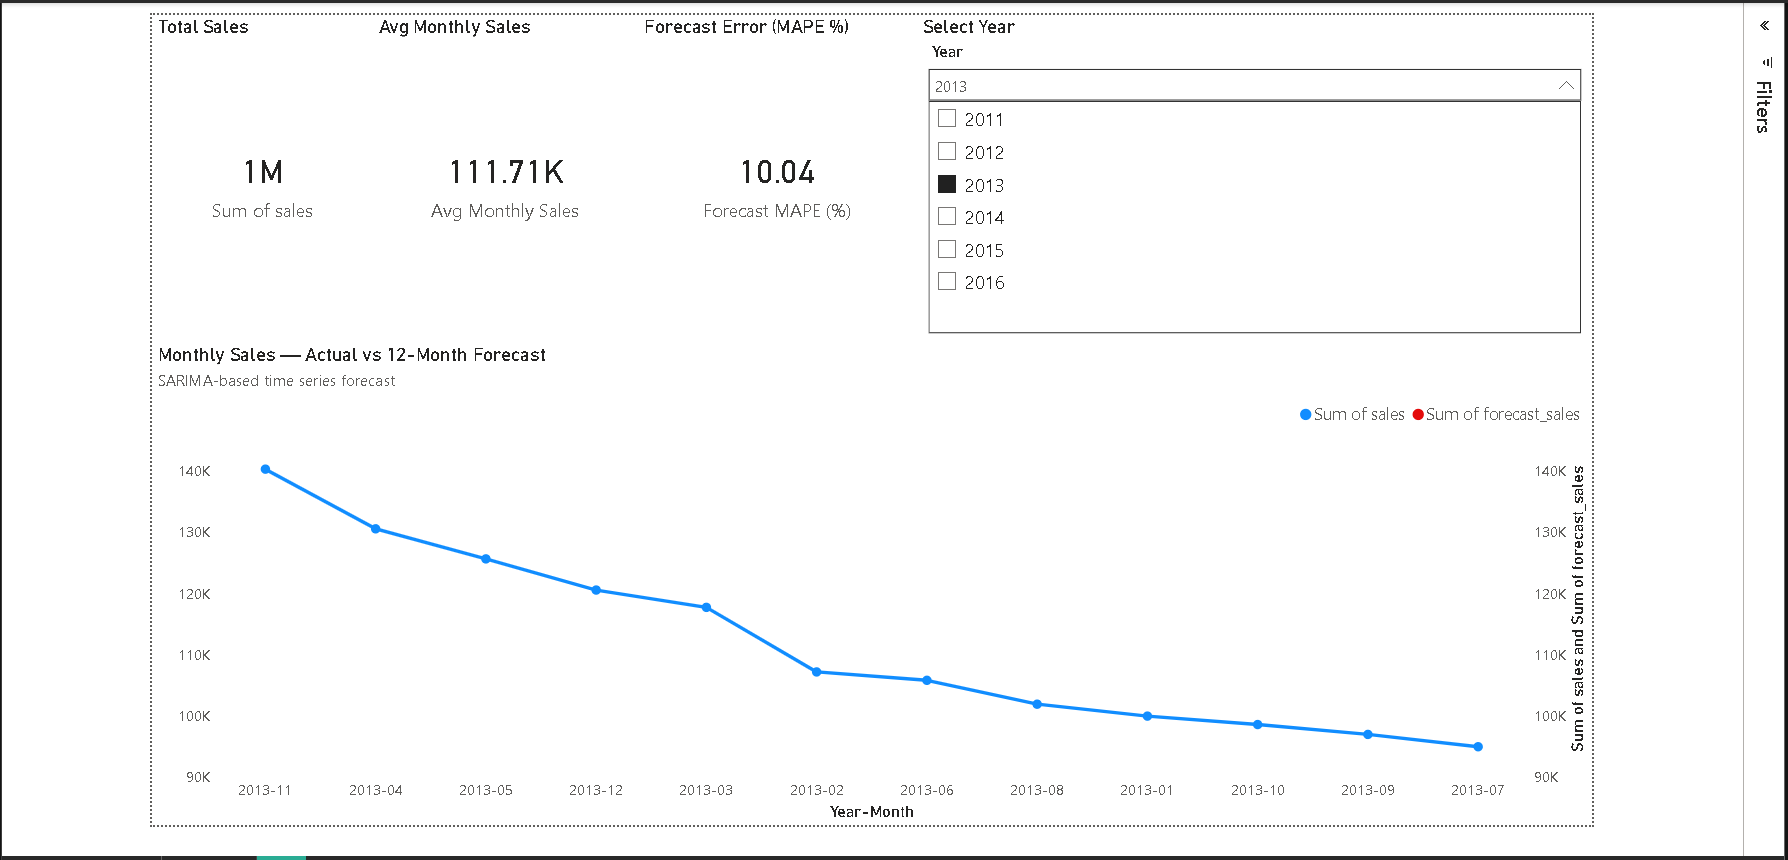

The page's visual inventory and layout, read from the dashboard file:
{"tool":"powerbi","page":{"name":"Page 1","canvas":[1280,720],"ordinal":0},"visuals":[{"type":"lineChart","title":"Monthly Sales — Actual vs 12-Month Forecast","fields":{"Category":["Calendar.Year-Month"],"Y":["Sum(superstore_sales_cleaned.sales)"],"Y2":["Sum(sales_forecast_12_months.forecast_sales)"]},"box":[0,291.4,1280,430],"z":0},{"type":"card","title":"Total Sales","fields":{"Values":["Sum(superstore_sales_cleaned.sales)"]},"box":[0,0,196.2,277.5],"z":1000},{"type":"card","title":"Avg Monthly Sales","fields":{"Values":["superstore_sales_cleaned.Avg Monthly Sales"]},"box":[196.2,0,235,278.8],"z":2000},{"type":"card","title":"Forecast Error (MAPE %)","fields":{"Values":["superstore_sales_cleaned.Forecast MAPE (%)"]},"box":[432.2,0,247.8,277.8],"z":3000},{"type":"slicer","title":"Select Year","fields":{"Values":["Calendar.Year"]},"box":[680,0,600,277.5],"z":4000}]}

Visuals, with their boxes on the page's 1280x720 design canvas (x1, y1, x2, y2). These are canvas units, not pixel positions in the 1788x860 screenshot, which may show the page scaled, cropped or inside an application window:
"Monthly Sales — Actual vs 12-Month Forecast" lineChart: box=[0, 291, 1280, 721]
"Total Sales" card: box=[0, 0, 196, 278]
"Avg Monthly Sales" card: box=[196, 0, 431, 279]
"Forecast Error (MAPE %)" card: box=[432, 0, 680, 278]
"Select Year" slicer: box=[680, 0, 1280, 278]
